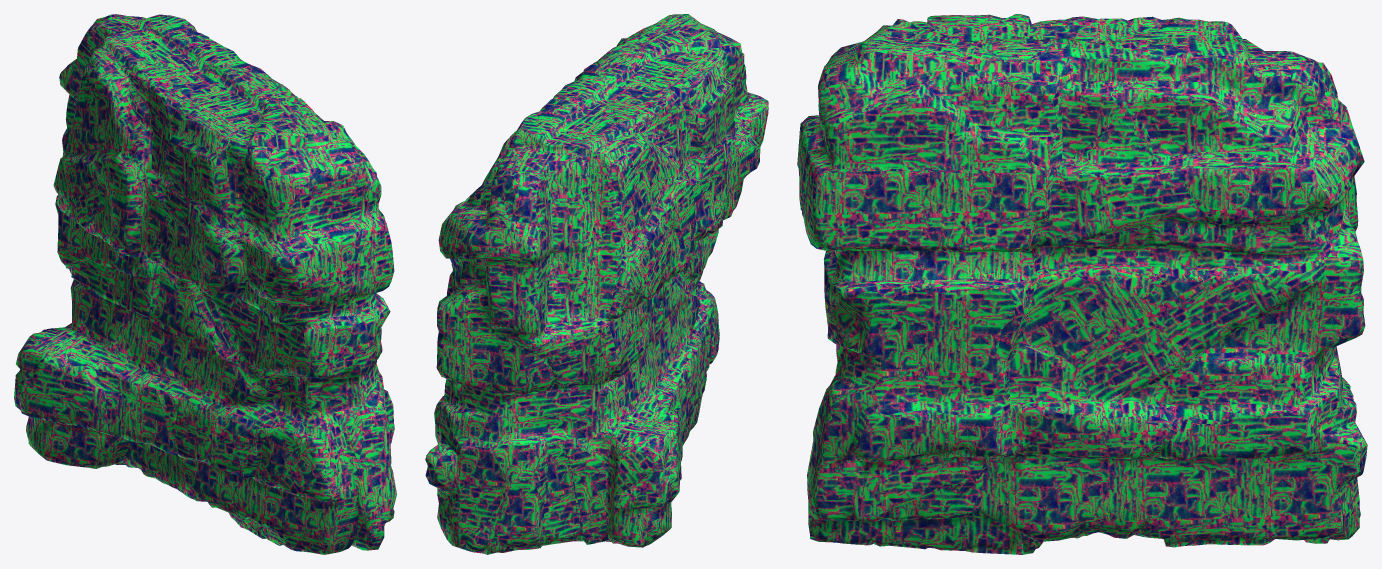
The model's file is SM_Rock2.fbx.
3 views of the same model, side by side, from view 1: azimuth 30°, elevation 25°; view 2: azimuth 150°, elevation 25°; view 3: azimuth 270°, elevation 25° (orthographic). The views are drawn at different scales.
Visible parts, largest first — view 1: SM_Rock2_LOD0; view 2: SM_Rock2_LOD0; view 3: SM_Rock2_LOD0.
Boxes of the visible parts, x1,y1,x2,y2 form: SM_Rock2_LOD0: (14, 14, 396, 554); SM_Rock2_LOD0: (425, 14, 768, 554); SM_Rock2_LOD0: (797, 14, 1367, 554).
Size of the model in its own units: 464 by 893 by 863.
1 material, 1 textured.
